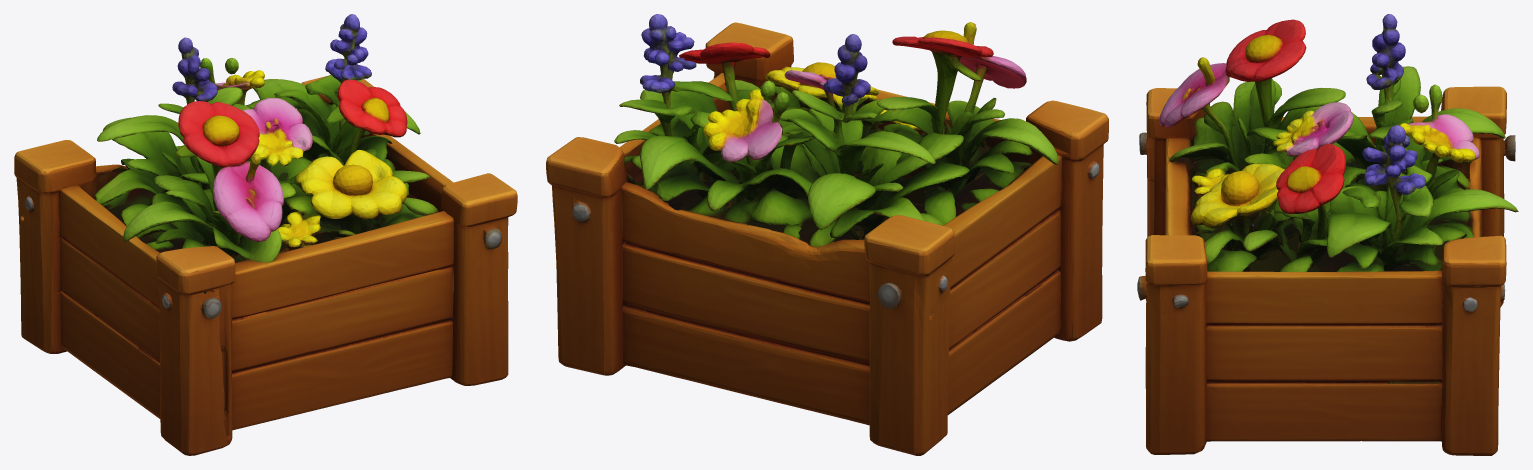
Rendered from flower_bed_try2.glb.
The picture shows the model from 3 angles, left to right: view 1: azimuth 30°, elevation 25°; view 2: azimuth 150°, elevation 25°; view 3: azimuth 270°, elevation 25°; orthographic projection. The views are drawn at different scales.
Visible parts, largest first — view 1: geometry_0; view 2: geometry_0; view 3: geometry_0.
Boxes of the visible parts, x1,y1,x2,y2 form: geometry_0: [14, 14, 517, 455]; geometry_0: [546, 14, 1108, 455]; geometry_0: [1137, 14, 1518, 455].
Bounding box in the file's own units: 0.993 × 0.8612 × 0.8941.
Materials: 1 (1 with a texture image).
